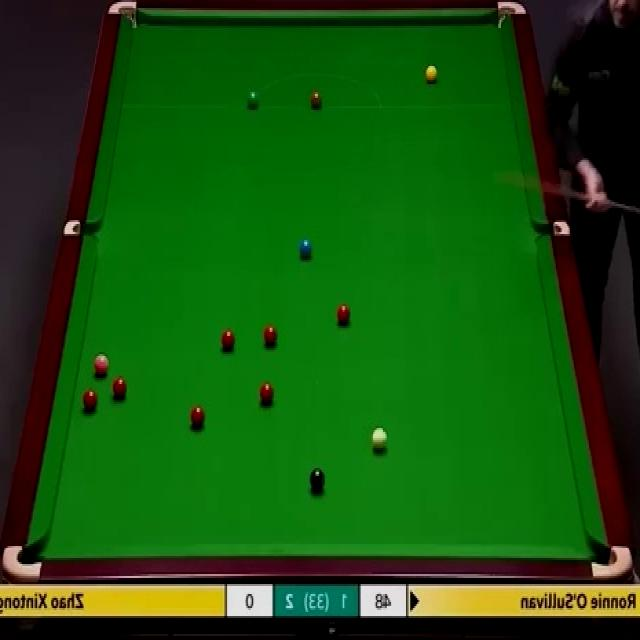black-ball: (310, 465, 325, 492)
blue-ball: (299, 239, 312, 261)
brown-ball: (310, 93, 322, 110)
green-ball: (247, 90, 258, 110)
pink-ball: (92, 353, 109, 378)
red-ball: (189, 405, 207, 430), (82, 387, 99, 413), (220, 327, 235, 352), (259, 382, 273, 407), (264, 325, 278, 349), (112, 378, 127, 399), (336, 302, 350, 324)
white-ball: (371, 423, 388, 452)
yellow-ball: (424, 66, 438, 86)
